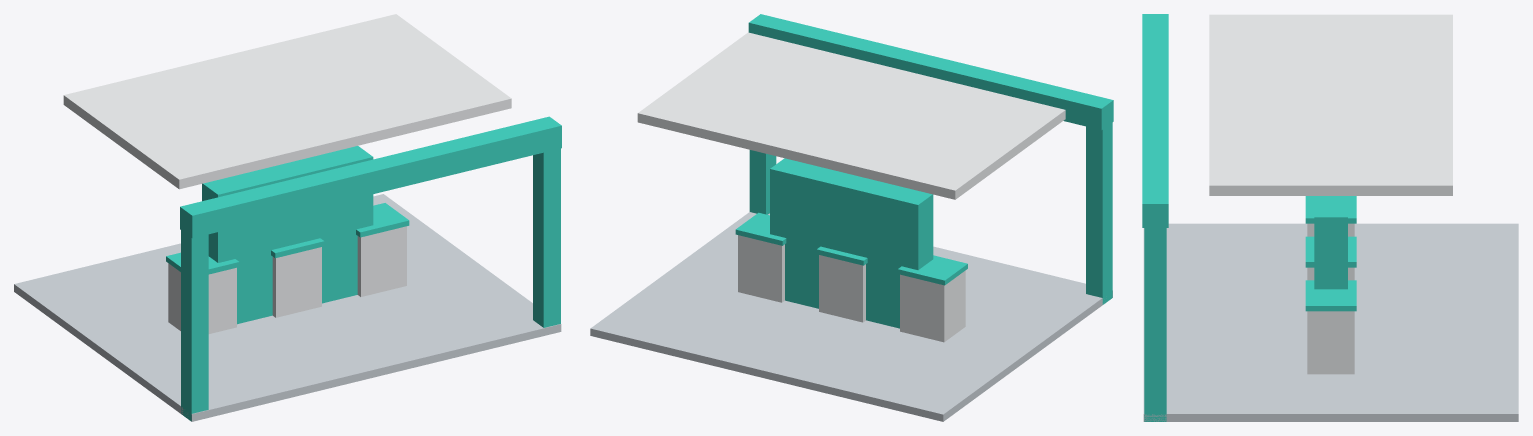
3 renders of one model, left to right at view 1: azimuth 30°, elevation 25°; view 2: azimuth 150°, elevation 25°; view 3: azimuth 270°, elevation 25°, orthographic. The views are drawn at different scales.
Visible parts, largest first — view 1: Exhibition Booth Concept; view 2: Exhibition Booth Concept; view 3: Exhibition Booth Concept.
Boxes of the visible parts, x1=… form: Exhibition Booth Concept: x1=14, y1=14, x2=561, y2=421; Exhibition Booth Concept: x1=590, y1=14, x2=1113, y2=421; Exhibition Booth Concept: x1=1142, y1=14, x2=1518, y2=421.
Bounding box in the file's own units: 6 × 3.34 × 5.02.
